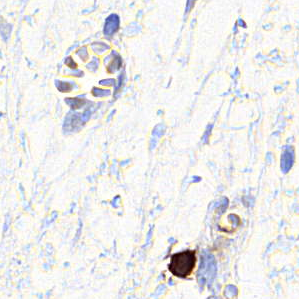Lymphocyte: (167, 250, 202, 277)
